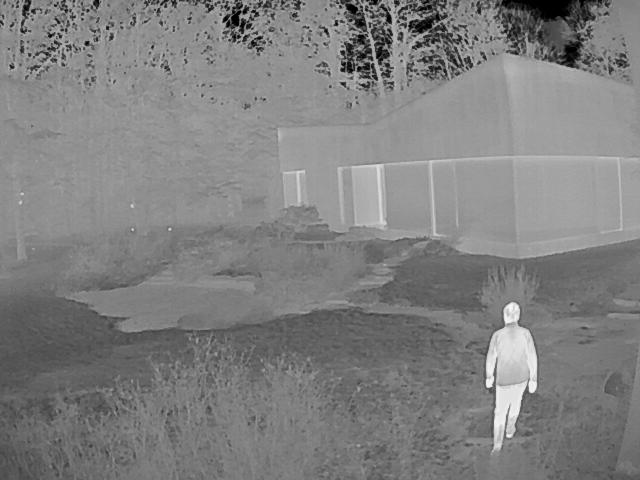person: (487, 300, 540, 455)
